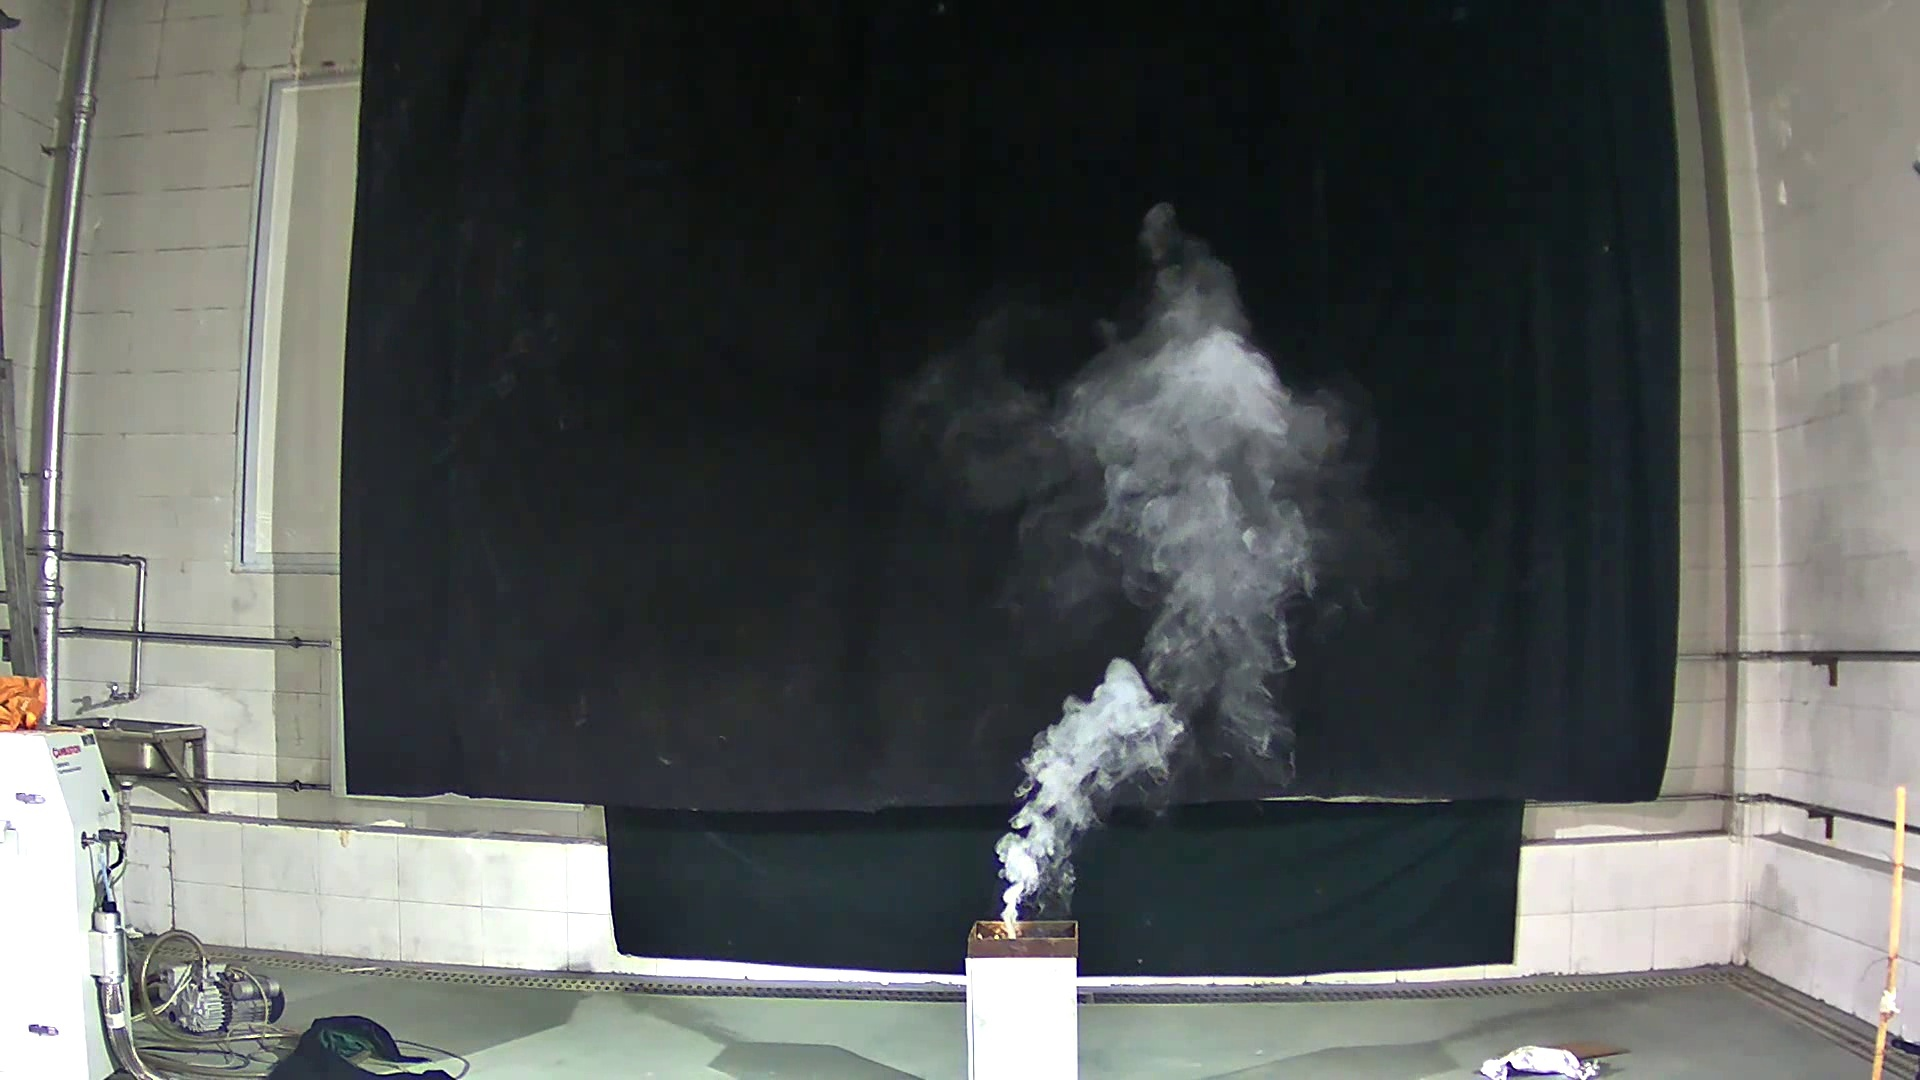smoke: (894, 222, 1344, 938)
